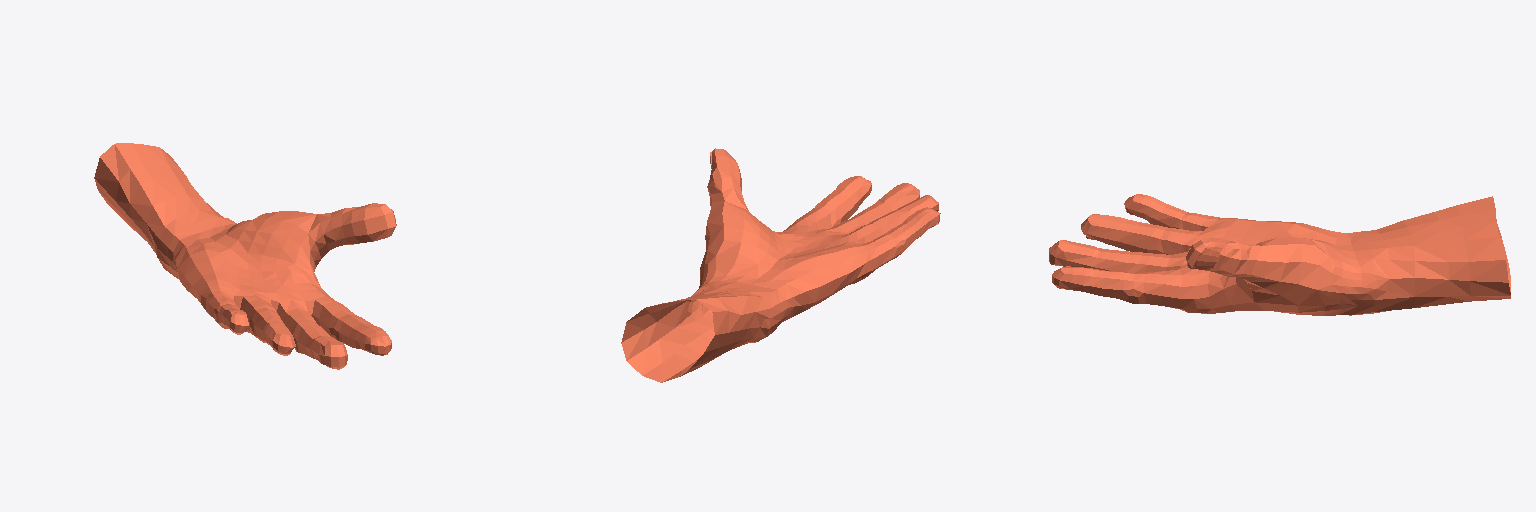
The model's file is 4_8_HandPolygonalLeftFront.obj.
The picture shows the model from 3 angles: view 1: azimuth 30°, elevation 25°; view 2: azimuth 150°, elevation 25°; view 3: azimuth 270°, elevation 25°; orthographic projection.
Visible parts, largest first — view 1: hand1_polySurface891.006; view 2: hand1_polySurface891.006; view 3: hand1_polySurface891.006.
Boxes of the visible parts, <box> form: hand1_polySurface891.006: <box>94,143,396,369</box>; hand1_polySurface891.006: <box>621,148,940,382</box>; hand1_polySurface891.006: <box>1049,194,1510,315</box>.
Bounding box in the file's own units: 0.0875 × 0.0487 × 0.1779.